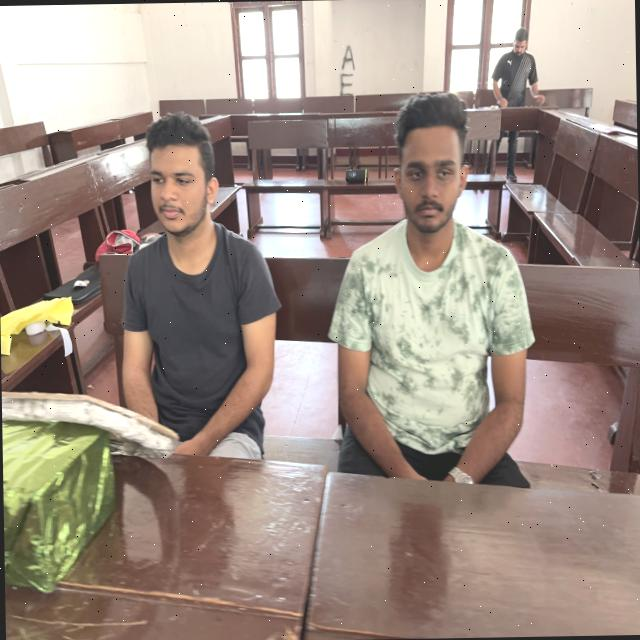Helmet: (331, 230, 534, 514), (125, 237, 279, 484)
